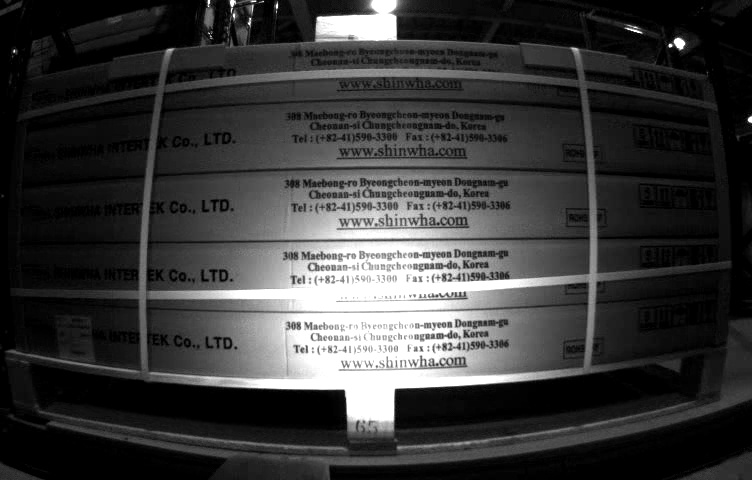True Barcode: (57, 315, 94, 367)
